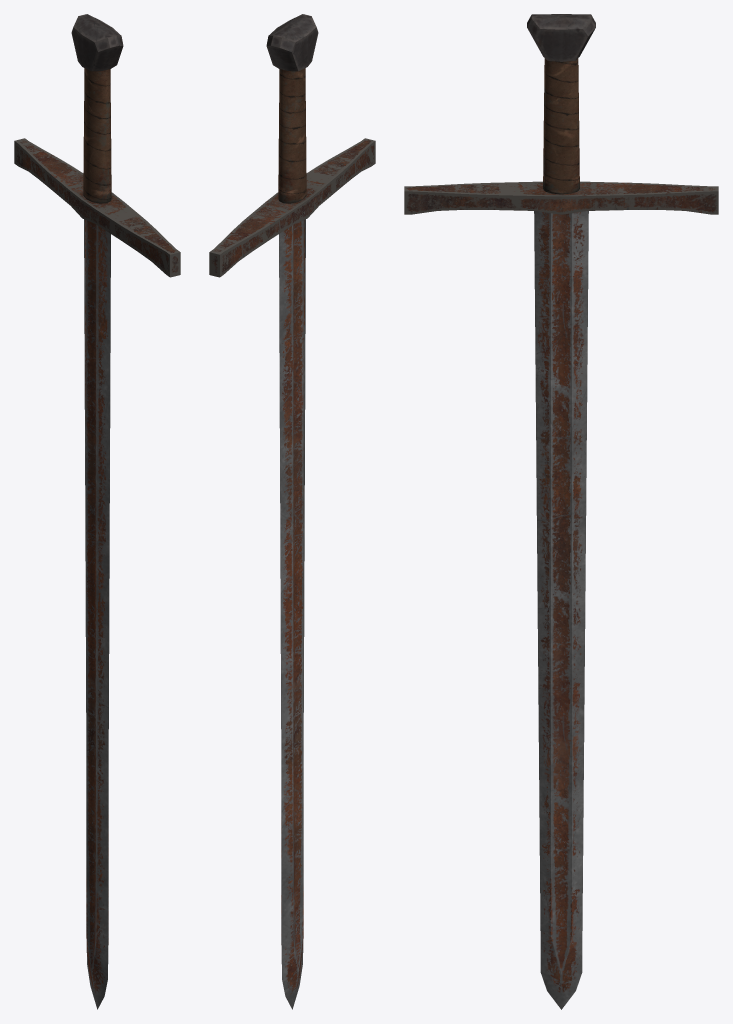
Rendered from SM_Sword2.fbx.
3 views of the same model, side by side, from view 1: azimuth 30°, elevation 25°; view 2: azimuth 150°, elevation 25°; view 3: azimuth 270°, elevation 25° (orthographic).
Visible parts, largest first — view 1: SM_Sword2_LOD0; view 2: SM_Sword2_LOD0; view 3: SM_Sword2_LOD0.
Part boxes in pixels (x1,y1,x2,y2): SM_Sword2_LOD0: (14, 14, 180, 1009); SM_Sword2_LOD0: (209, 14, 375, 1009); SM_Sword2_LOD0: (404, 14, 718, 1009).
Bounding box in the file's own units: 3.38 × 29.98 × 105.
1 material, 1 textured.
